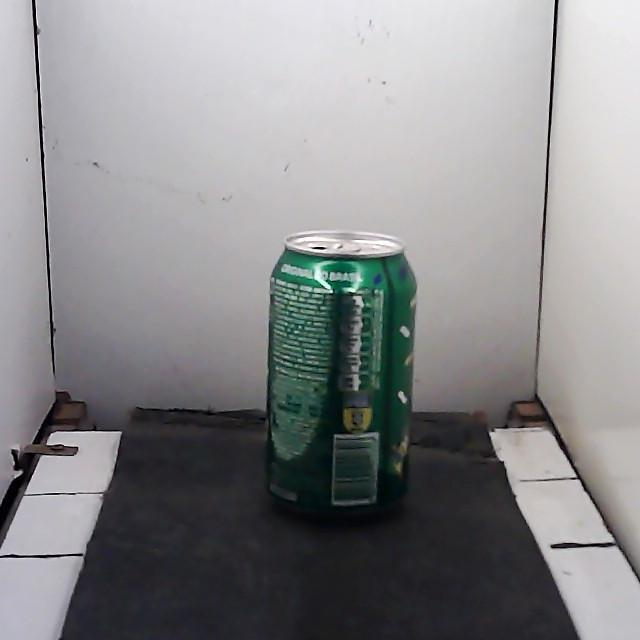metal: (266, 231, 416, 514)
